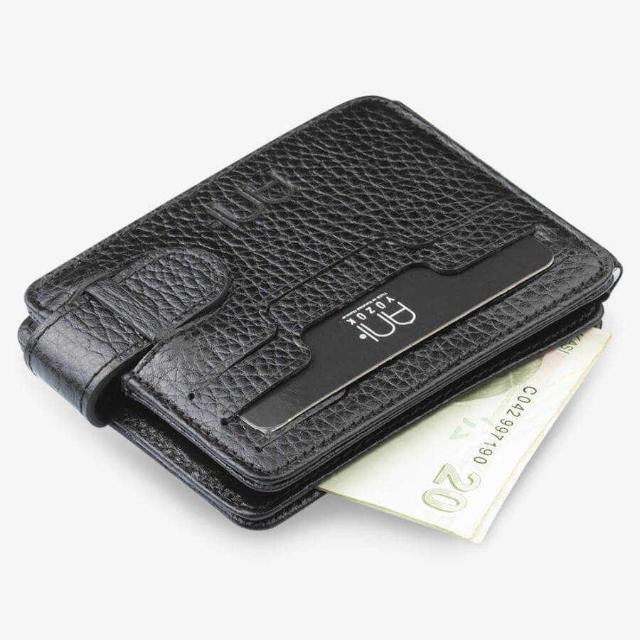wallet: (21, 90, 623, 534)
